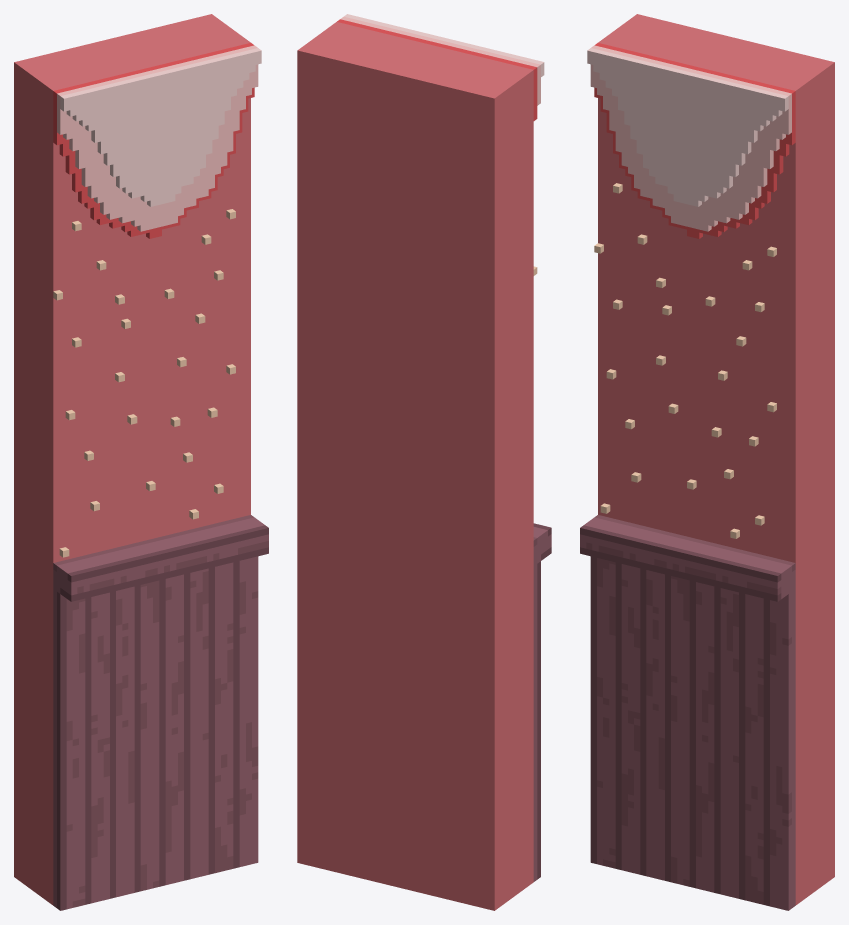
The model's file is pared.obj.
The picture shows the model from 3 angles, left to right: view 1: azimuth 30°, elevation 25°; view 2: azimuth 150°, elevation 25°; view 3: azimuth 330°, elevation 25°; orthographic projection.
Size of the model in its own units: 3.2 by 12.6 by 1.6.
Materials: 1 (1 with a texture image).
